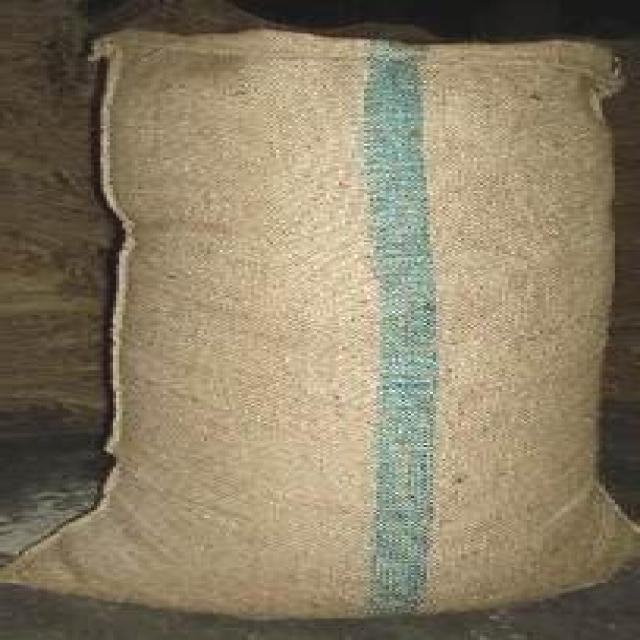gunny_bag: (0, 21, 640, 627)
